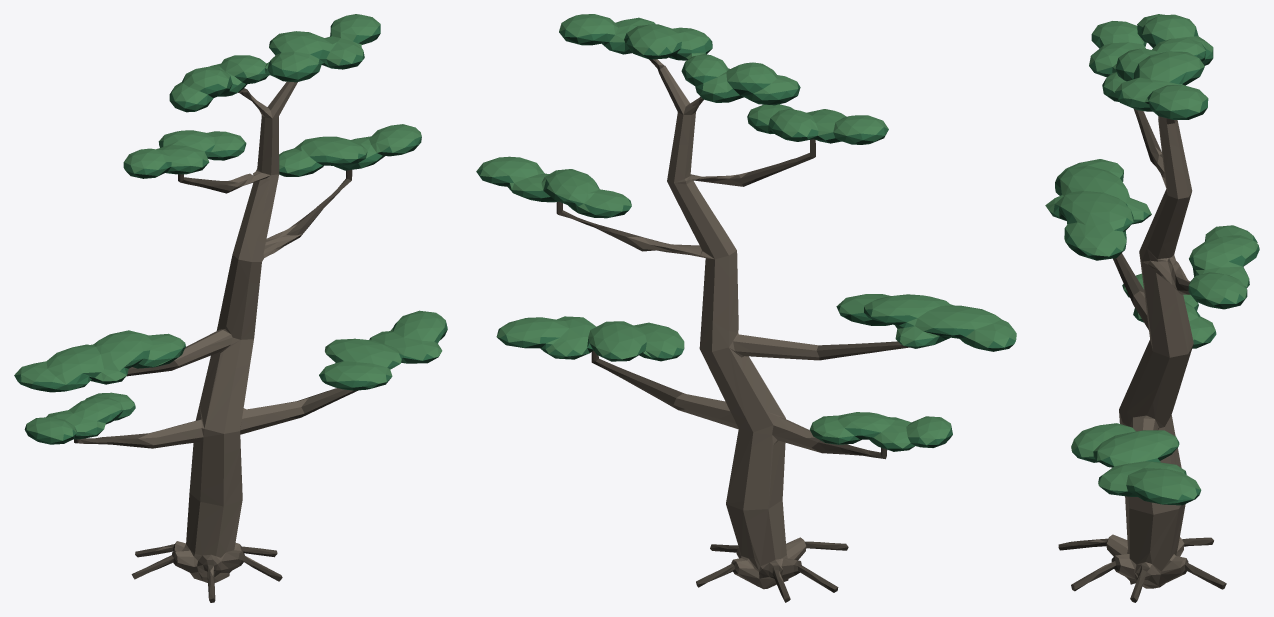
Rendered from ancient-pine-1410-lod0.glb.
3 renders of one model, left to right at view 1: azimuth 30°, elevation 25°; view 2: azimuth 150°, elevation 25°; view 3: azimuth 270°, elevation 25°, orthographic. The views are drawn at different scales.
Parts seen in each view (by area): view 1: n12.004, n8.004, n11.004, n9.004, n10.004; view 2: n12.004, n8.004, n11.004, n9.004, n10.004; view 3: n12.004, n8.004, n11.004, n9.004, n10.004.
Boxes of the visible parts, x1=… form: n12.004: x1=14, y1=14, x2=445, y2=440; n8.004: x1=138, y1=81, x2=308, y2=582; n11.004: x1=14, y1=21, x2=447, y2=443; n9.004: x1=74, y1=88, x2=358, y2=602; n10.004: x1=18, y1=33, x2=447, y2=444; n12.004: x1=476, y1=14, x2=1016, y2=448; n8.004: x1=626, y1=59, x2=820, y2=589; n11.004: x1=476, y1=29, x2=1015, y2=448; n9.004: x1=556, y1=59, x2=909, y2=602; n10.004: x1=477, y1=32, x2=1013, y2=451; n12.004: x1=1045, y1=14, x2=1258, y2=499; n8.004: x1=1090, y1=116, x2=1193, y2=588; n11.004: x1=1053, y1=24, x2=1259, y2=504; n9.004: x1=1058, y1=109, x2=1226, y2=602; n10.004: x1=1049, y1=34, x2=1252, y2=505.
Size of the model in its own units: 5.09 by 5.43 by 1.81.
